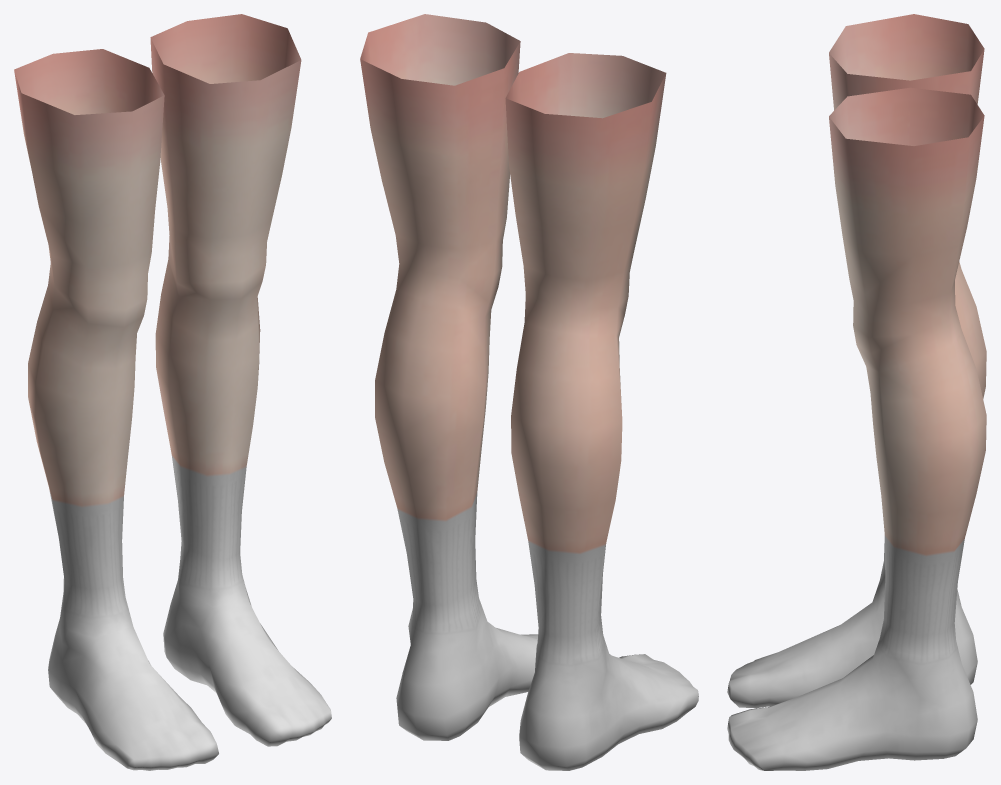
Rendered from p0_lgw0002_00_lgw00.gltf.
3 renders of one model, left to right at view 1: azimuth 30°, elevation 25°; view 2: azimuth 150°, elevation 25°; view 3: azimuth 270°, elevation 25°, orthographic. The views are drawn at different scales.
Parts seen in each view (by area): view 1: lgw00_legs01_mesh_shape:legs_skin, lgw00_legs02_mesh_shape:legs_skin, lgw00_legs00_mesh_shape:legs, lgw00_legs01_mesh_shape:legs; view 2: lgw00_legs01_mesh_shape:legs_skin, lgw00_legs02_mesh_shape:legs_skin, lgw00_legs00_mesh_shape:legs, lgw00_legs01_mesh_shape:legs; view 3: lgw00_legs00_mesh_shape:legs, lgw00_legs01_mesh_shape:legs_skin, lgw00_legs02_mesh_shape:legs_skin, lgw00_legs01_mesh_shape:legs.
Boxes of the visible parts, <box> form: lgw00_legs01_mesh_shape:legs_skin: <box>28,156,281,506</box>; lgw00_legs02_mesh_shape:legs_skin: <box>14,14,301,224</box>; lgw00_legs00_mesh_shape:legs: <box>48,500,331,770</box>; lgw00_legs01_mesh_shape:legs: <box>49,455,246,549</box>; lgw00_legs01_mesh_shape:legs_skin: <box>375,171,645,552</box>; lgw00_legs02_mesh_shape:legs_skin: <box>360,14,666,231</box>; lgw00_legs00_mesh_shape:legs: <box>396,541,698,770</box>; lgw00_legs01_mesh_shape:legs: <box>397,493,606,594</box>; lgw00_legs00_mesh_shape:legs: <box>727,536,977,770</box>; lgw00_legs01_mesh_shape:legs_skin: <box>842,228,986,553</box>; lgw00_legs02_mesh_shape:legs_skin: <box>829,14,984,256</box>; lgw00_legs01_mesh_shape:legs: <box>884,535,964,596</box>.
Size of what is drawn, in the model's own units: 0.2758 by 0.6251 by 0.2287.
Materials: 2 (2 with a texture image).
